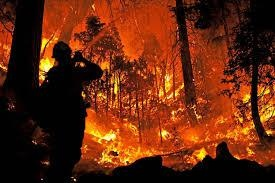fire: (79, 52, 266, 167)
